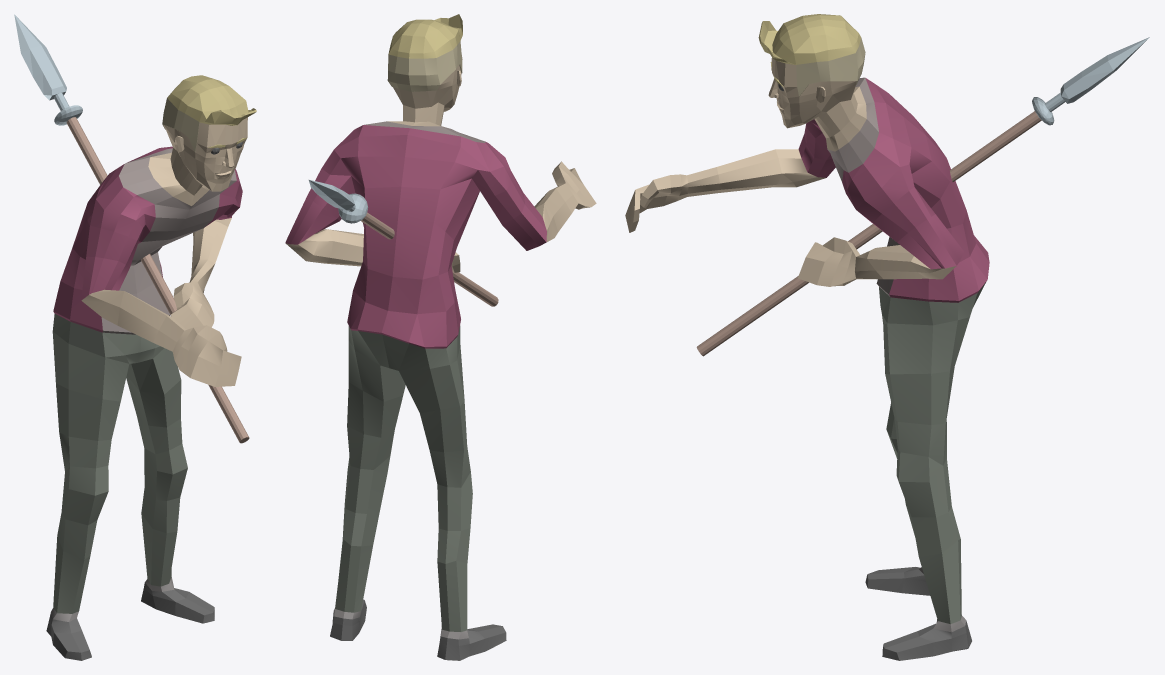
File: spearguy.fbx
The picture shows the model from 3 angles, left to right: view 1: azimuth 30°, elevation 25°; view 2: azimuth 150°, elevation 25°; view 3: azimuth 270°, elevation 25°; orthographic projection. The views are drawn at different scales.
Parts seen in each view (by area): view 1: model1; view 2: model1; view 3: model1.
Part boxes in pixels (box(x1,y1,x2,y2)): model1: box(14, 14, 256, 660); model1: box(285, 14, 596, 660); model1: box(625, 14, 1149, 660).
Size of the model in its own units: 5.54 by 14.96 by 11.5.
